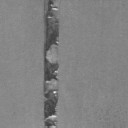slag inclusion: (43, 0, 61, 128)
